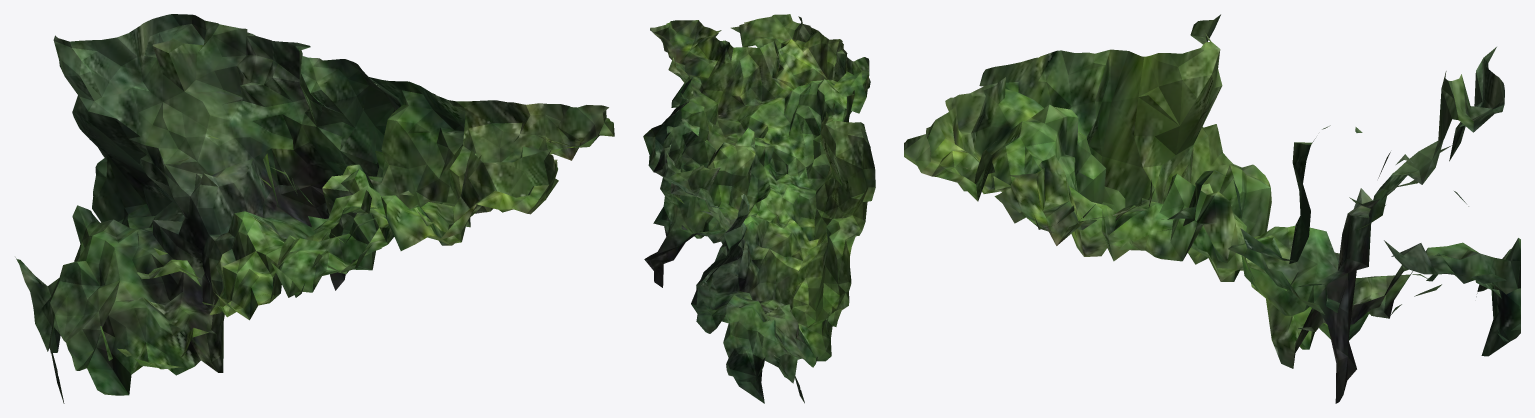
The picture shows the model from 3 angles, left to right: view 1: azimuth 30°, elevation 25°; view 2: azimuth 150°, elevation 25°; view 3: azimuth 270°, elevation 25°; orthographic projection. The views are drawn at different scales.
Bounding box in the file's own units: 20.43 × 16.44 × 26.11.
3 materials, 3 textured.
